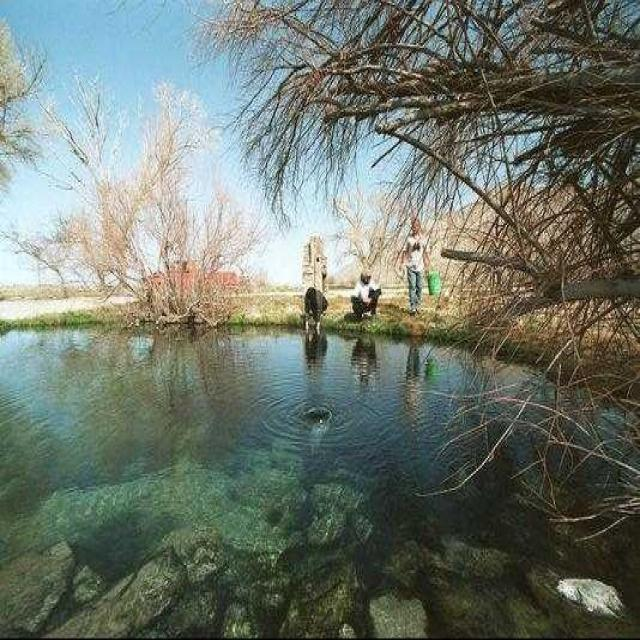Ponds: (1, 319, 637, 636)
